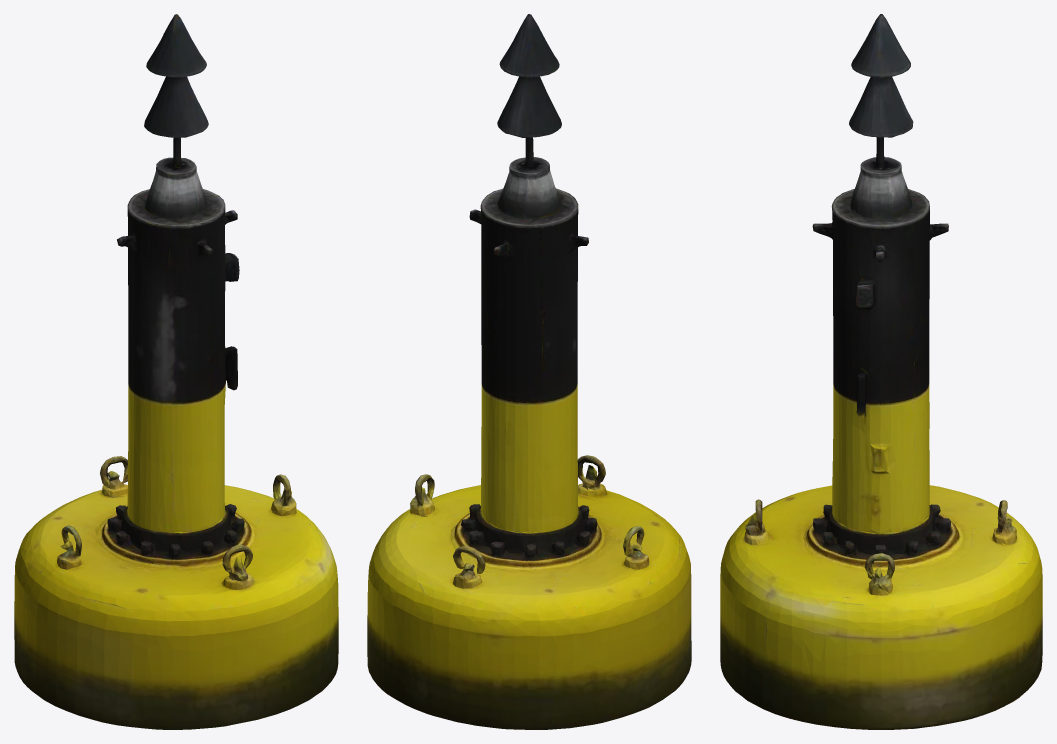
Rendered from buoy-cardinal.glb.
3 views of the same model, side by side, from view 1: azimuth 30°, elevation 25°; view 2: azimuth 150°, elevation 25°; view 3: azimuth 270°, elevation 25° (orthographic).
Visible parts, largest first — view 1: geometry_0; view 2: geometry_0; view 3: geometry_0.
Boxes of the visible parts, x1,y1,x2,y2 form: geometry_0: (14, 14, 338, 729); geometry_0: (367, 14, 691, 729); geometry_0: (720, 14, 1042, 729).
Bounding box in the file's own units: 0.4529 × 1 × 0.4512.
1 material, 1 textured.
